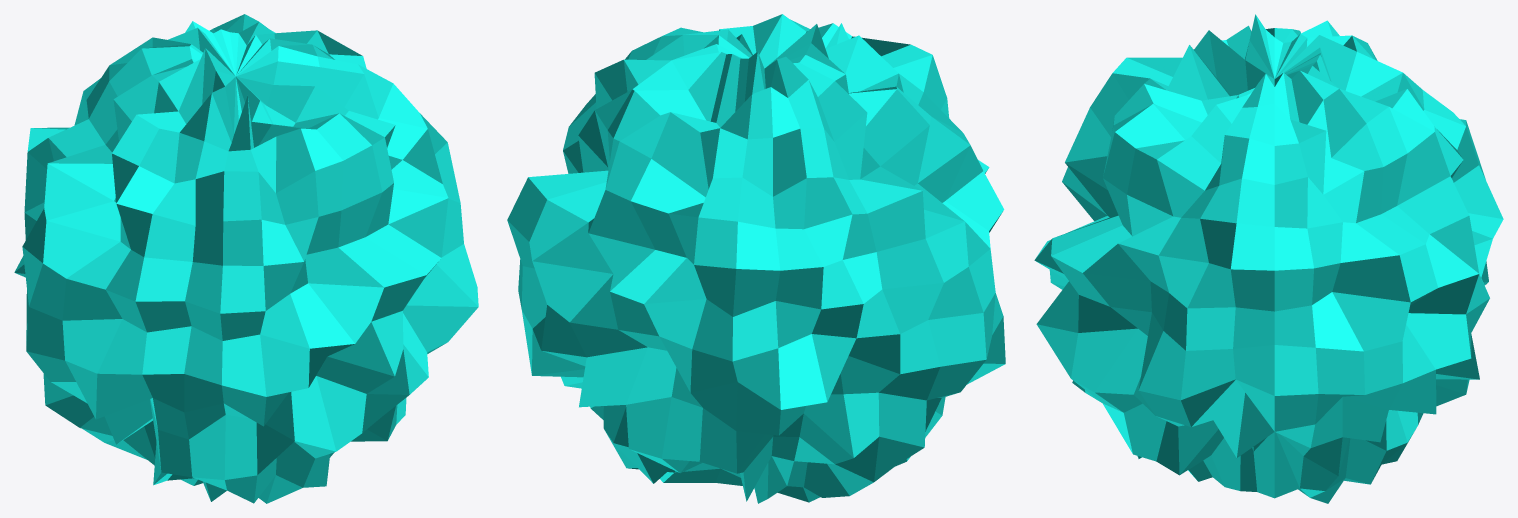
File: glass7.glb
3 views of the same model, side by side, from view 1: azimuth 30°, elevation 25°; view 2: azimuth 150°, elevation 25°; view 3: azimuth 270°, elevation 25° (orthographic). The views are drawn at different scales.
Parts seen in each view (by area): view 1: Sphere; view 2: Sphere; view 3: Sphere.
Boxes of the visible parts, x1,y1,x2,y2 form: Sphere: (14, 14, 478, 503); Sphere: (507, 14, 1005, 503); Sphere: (1034, 14, 1503, 503).
Bounding box in the file's own units: 2.73 × 2.87 × 2.73.
